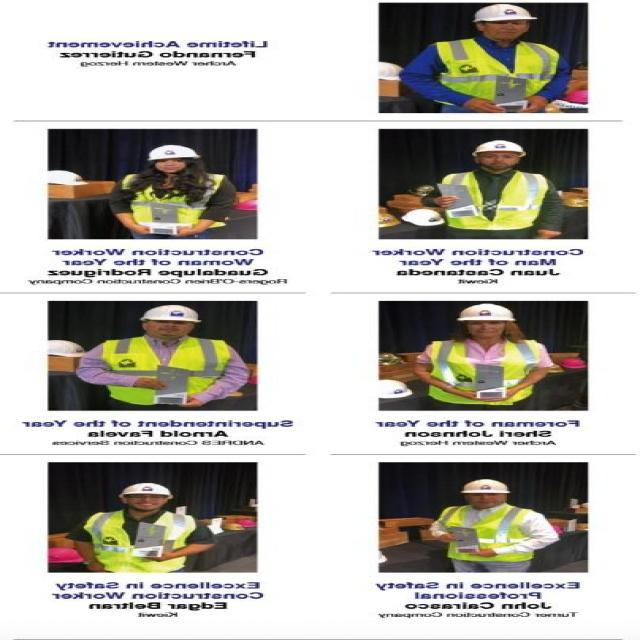reflective_jacket: (93, 334, 242, 406), (426, 37, 565, 111), (419, 336, 546, 405), (114, 169, 237, 235), (82, 508, 201, 572), (437, 168, 551, 232), (435, 502, 537, 563)
safety_helmet: (451, 302, 518, 324), (466, 3, 542, 22), (137, 303, 204, 323), (141, 142, 203, 161), (456, 477, 513, 495), (470, 138, 529, 155), (117, 480, 175, 497)
